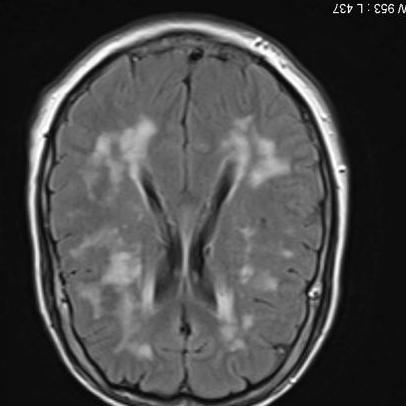Normal_Brain: (1, 1, 406, 406)
